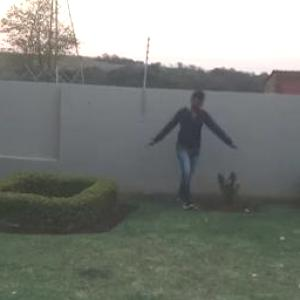land: (145, 86, 237, 213)
